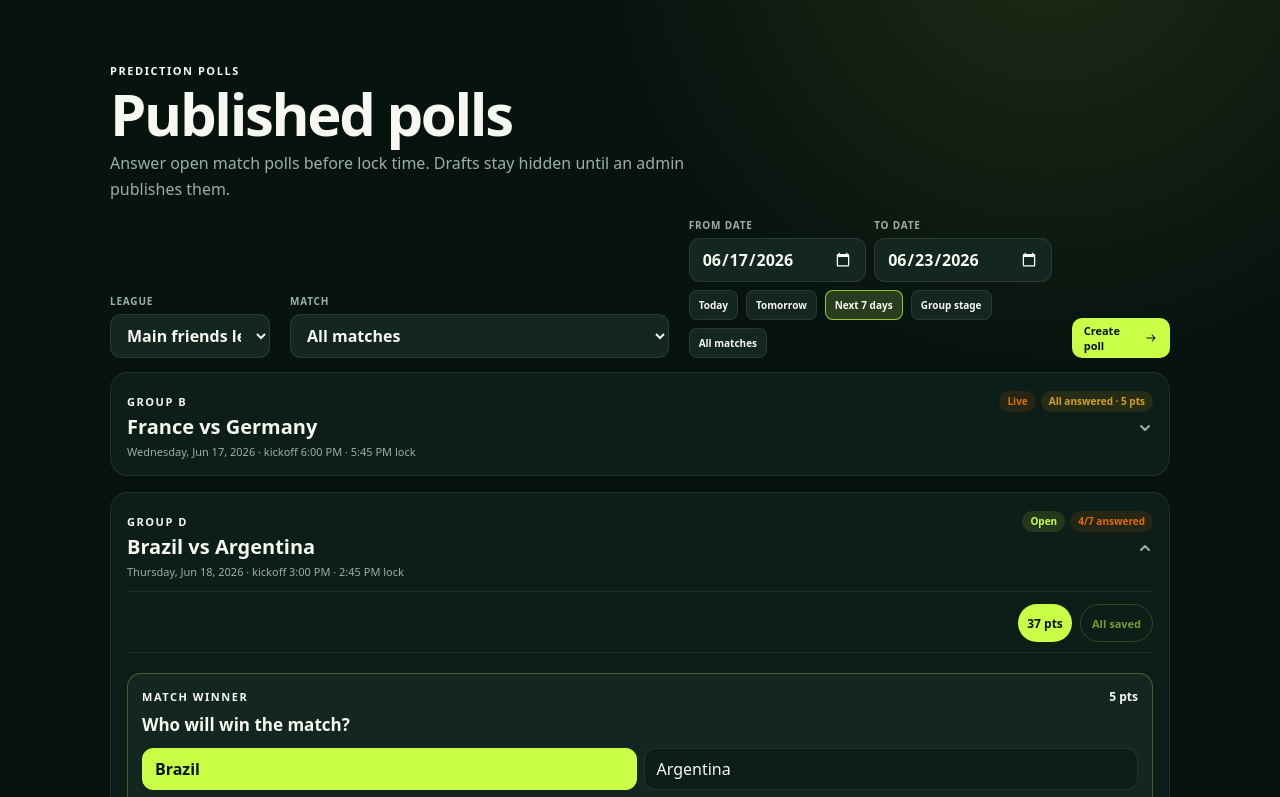
fantasy prediction game › renders match-level changed-pick save controls
This screenshot has width=1280, height=797.
Expected: the heading "Brazil vs Argentina" is shown, [127,533,315,560]
Expected: the date field labelled "From date" is shown, [689,238,866,282]
Click the button "All matches". click: (728, 343)
box: [689,328,767,358]
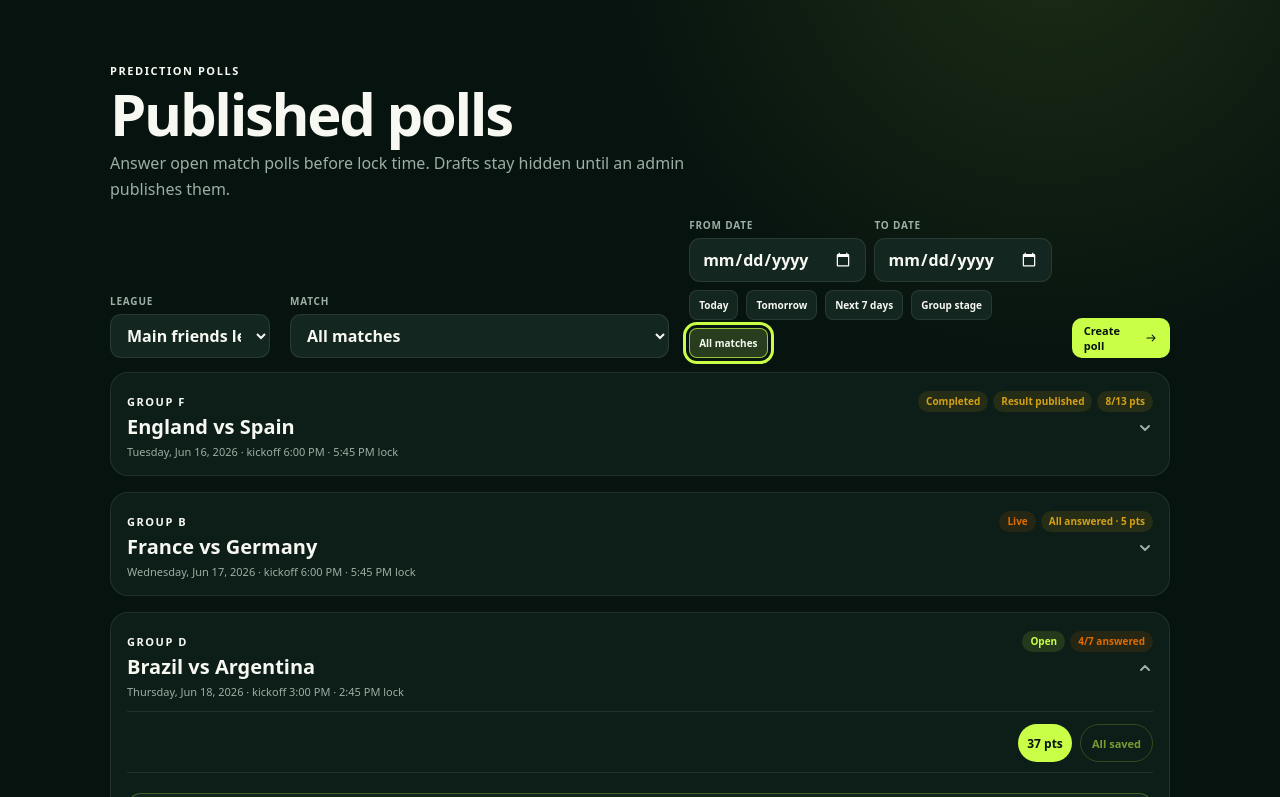
Expected: the button "All saved" is shown, [1080,724,1153,762]
Now the heading "England vs Spain" is shown, box [127,413,295,440]
